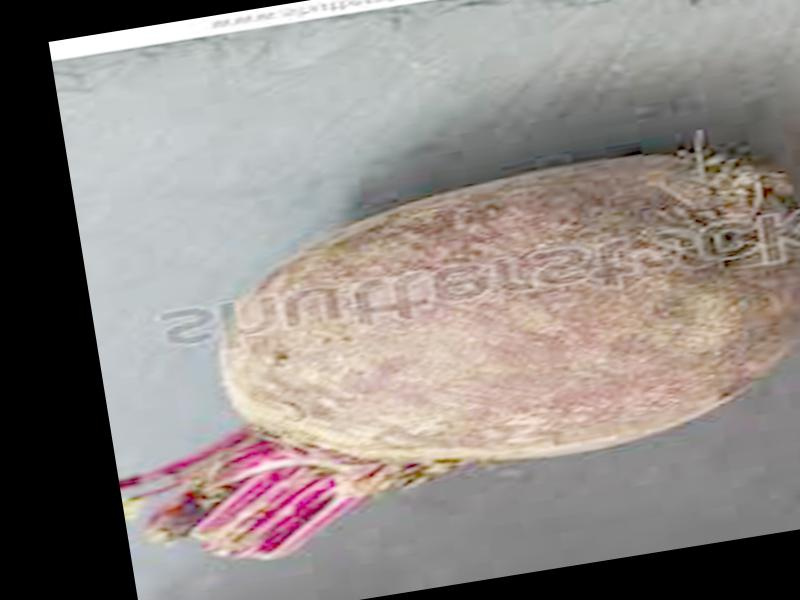Beet: (85, 130, 800, 576)
